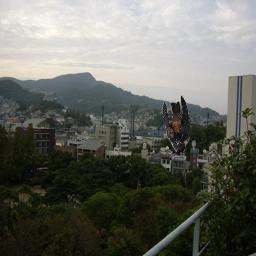Swallow: (162, 96, 190, 153)
